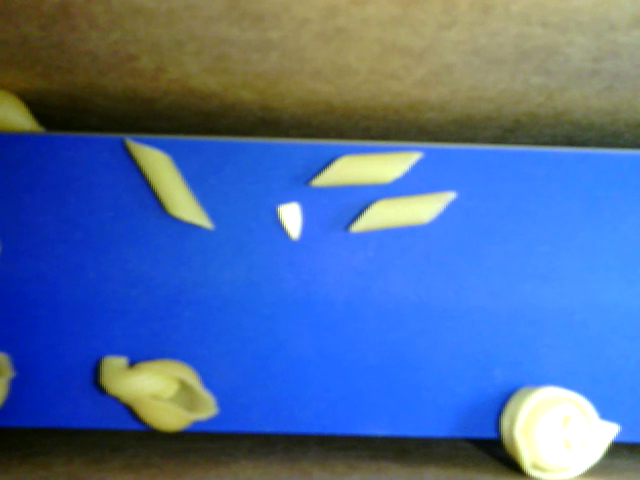elbow: (99, 354, 183, 402)
penne: (122, 135, 214, 226), (306, 147, 423, 189), (347, 190, 455, 233)
shell: (115, 360, 224, 435), (1, 90, 46, 132)
tortellini: (499, 386, 623, 479)
